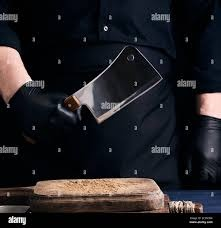knife: (60, 43, 164, 123)
